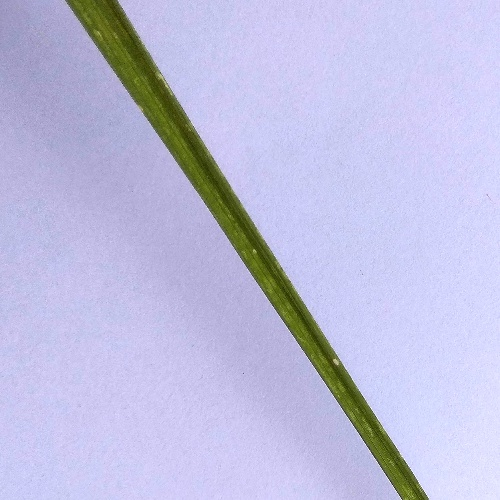Busuk Leher: (151, 69, 179, 97), (329, 348, 346, 375), (248, 243, 262, 258)
